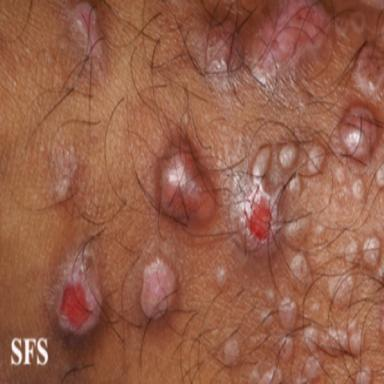Epidermolysis-Bullosa-Pruriginosa: (186, 0, 331, 85), (230, 146, 307, 252), (47, 243, 102, 336), (160, 143, 216, 224), (139, 257, 177, 318), (338, 106, 377, 164), (304, 320, 362, 355), (72, 3, 103, 68), (353, 45, 384, 100), (58, 153, 78, 200), (330, 274, 354, 306), (335, 11, 365, 36), (304, 144, 325, 174), (277, 143, 299, 170), (289, 253, 308, 283), (250, 367, 282, 384), (279, 298, 296, 329), (363, 237, 380, 267), (223, 336, 239, 365), (304, 356, 322, 381), (281, 337, 293, 360), (345, 241, 358, 262), (355, 367, 371, 383), (216, 266, 227, 288), (353, 178, 364, 199), (290, 176, 300, 193), (377, 163, 384, 186)
